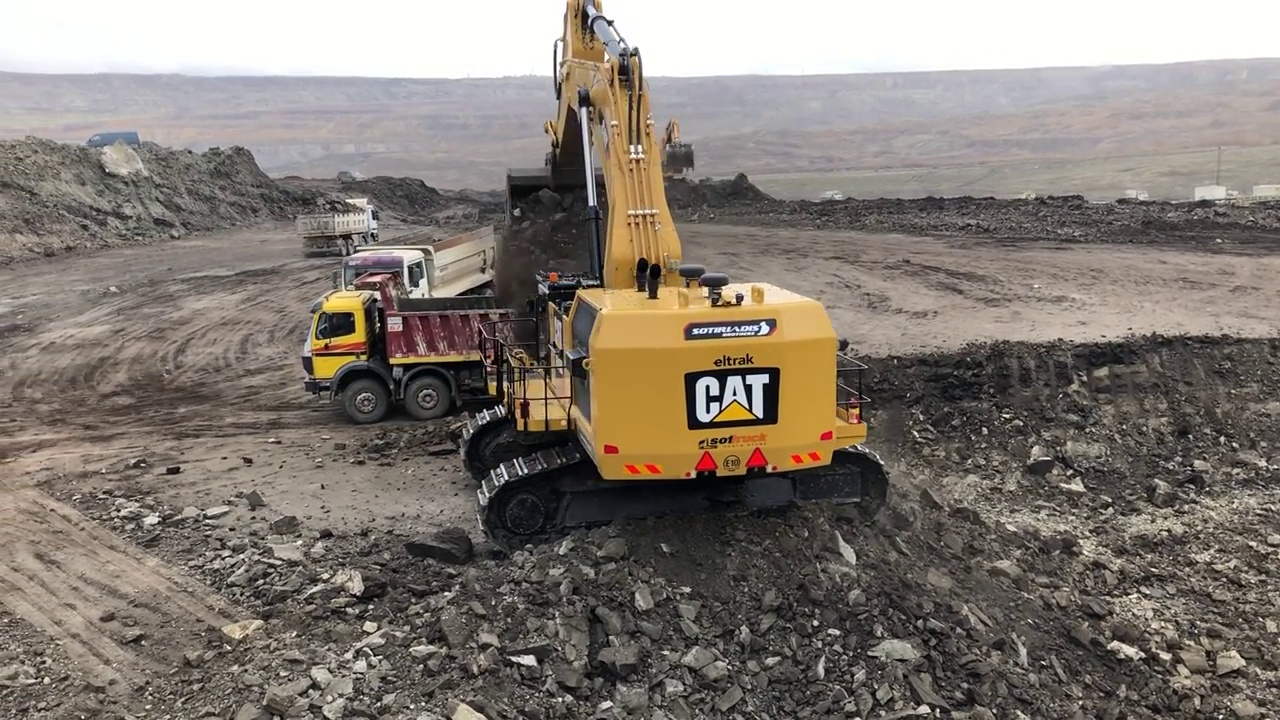excavator: (460, 2, 894, 538)
truck: (301, 292, 597, 424), (341, 223, 499, 309), (295, 196, 383, 254)
